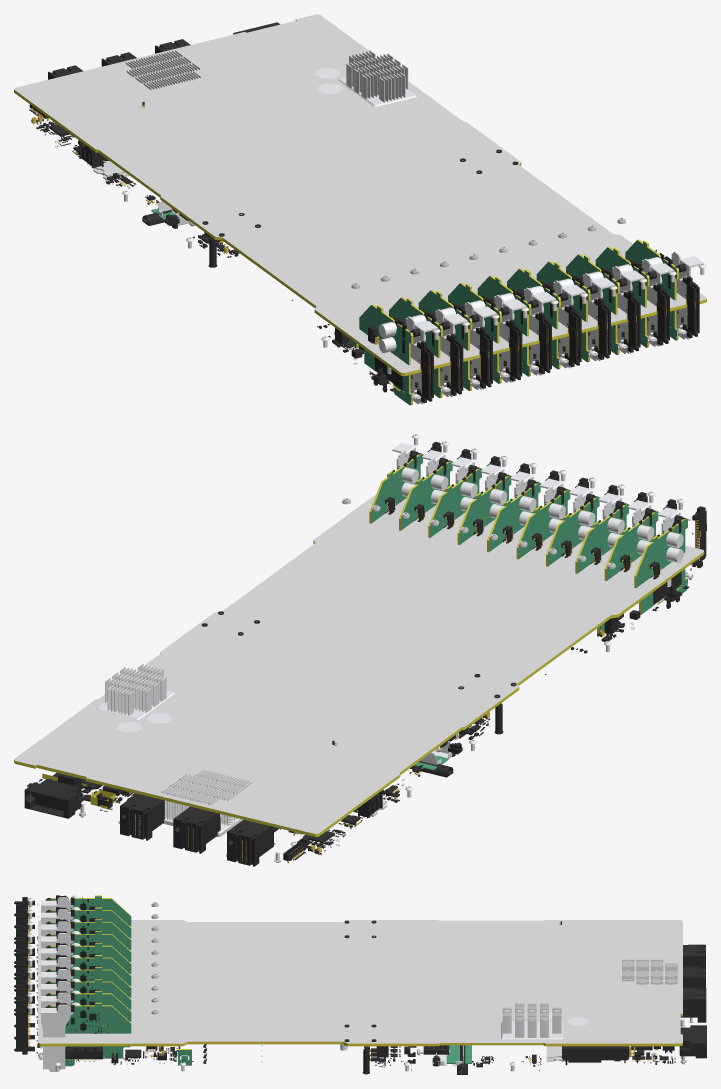
Rendered from cosmo-int-0.glb.
The picture shows the model from 3 angles, top to bottom: view 1: azimuth 30°, elevation 25°; view 2: azimuth 150°, elevation 25°; view 3: azimuth 270°, elevation 25°; orthographic projection. The views are drawn at different scales.
Parts seen in each view (by area): view 1: PCB.001, All the Cubes.4296, CMP-002-00201-2_AMPHENOL_PSAS5F2130021TR.010, Cosmo_Sharkfin_BOARD.011, Cube.080, Cube.109, All the Cubes.6400, Cube.107; view 2: PCB.001, All the Cubes.4296, Cosmo_Sharkfin_BOARD.011, CMP-002-00201-2_AMPHENOL_PSAS5F2130021TR.010, Cube.080, Cube.109, All the Cubes.6400; view 3: PCB.001, All the Cubes.4296, Cosmo_Sharkfin_BOARD.011, CMP-002-00201-2_AMPHENOL_PSAS5F2130021TR.010, Cube.080, Cube.109, Cube.107, CMP-00533-16_CAPAE7366X80N.024, All the Cubes.6400.
Boxes of the visible parts, bbox=[...] form: PCB.001: bbox=[14, 14, 706, 376]; All the Cubes.4296: bbox=[29, 22, 699, 403]; CMP-002-00201-2_AMPHENOL_PSAS5F2130021TR.010: bbox=[55, 50, 703, 404]; Cosmo_Sharkfin_BOARD.011: bbox=[151, 208, 678, 405]; Cube.080: bbox=[315, 50, 416, 374]; Cube.109: bbox=[122, 190, 706, 400]; All the Cubes.6400: bbox=[31, 104, 696, 393]; Cube.107: bbox=[93, 161, 625, 288]; PCB.001: bbox=[14, 494, 704, 836]; All the Cubes.4296: bbox=[24, 441, 706, 866]; Cosmo_Sharkfin_BOARD.011: bbox=[42, 453, 687, 807]; CMP-002-00201-2_AMPHENOL_PSAS5F2130021TR.010: bbox=[161, 443, 690, 846]; Cube.080: bbox=[96, 579, 671, 834]; Cube.109: bbox=[79, 434, 693, 862]; All the Cubes.6400: bbox=[81, 502, 700, 863]; PCB.001: bbox=[38, 920, 682, 1046]; All the Cubes.4296: bbox=[14, 895, 706, 1074]; Cosmo_Sharkfin_BOARD.011: bbox=[45, 895, 471, 1066]; CMP-002-00201-2_AMPHENOL_PSAS5F2130021TR.010: bbox=[37, 895, 681, 1071]; Cube.080: bbox=[340, 1003, 588, 1050]; Cube.109: bbox=[27, 897, 693, 1071]; Cube.107: bbox=[151, 902, 568, 1061]; CMP-00533-16_CAPAE7366X80N.024: bbox=[80, 904, 640, 1063]; All the Cubes.6400: bbox=[28, 906, 658, 1065].
Size of the model in its own units: 8323 by 2184 by 19721.
